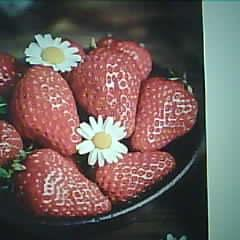straw-ripe: (11, 66, 81, 155), (19, 149, 111, 215), (72, 49, 140, 137), (131, 76, 198, 151), (95, 152, 174, 204)
